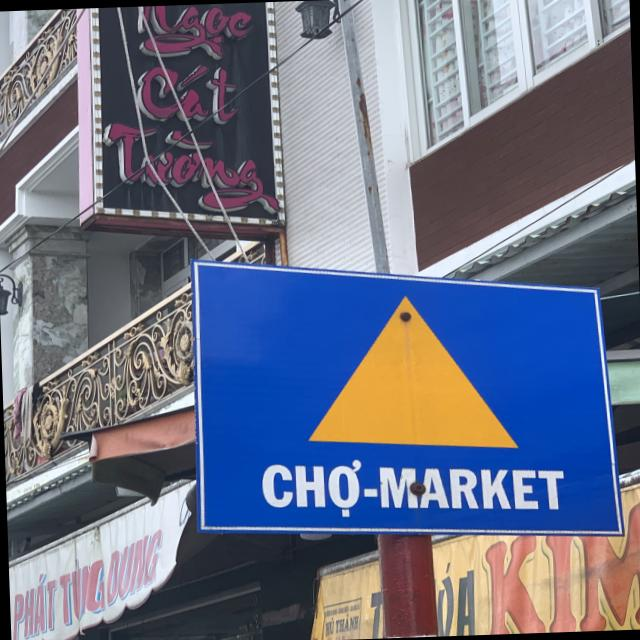Cho_Quay_Xe: (193, 247, 622, 542)
